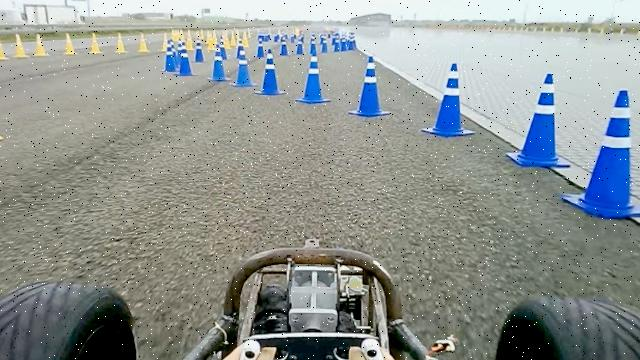blue cone: (561, 88, 640, 219), (506, 72, 571, 168), (421, 62, 476, 137), (348, 55, 391, 117), (298, 48, 328, 104), (254, 48, 286, 95), (230, 45, 258, 87), (206, 43, 231, 82), (174, 40, 195, 76), (162, 41, 178, 72)
yellow cone: (13, 33, 30, 58), (33, 33, 50, 57), (64, 32, 78, 55), (89, 32, 103, 54), (114, 33, 128, 54), (138, 31, 150, 53), (0, 35, 10, 60)
